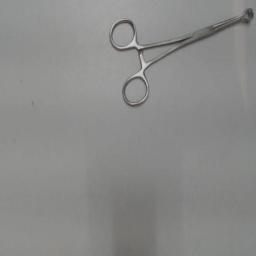Babcock Tissue Forceps: (108, 5, 256, 109)
